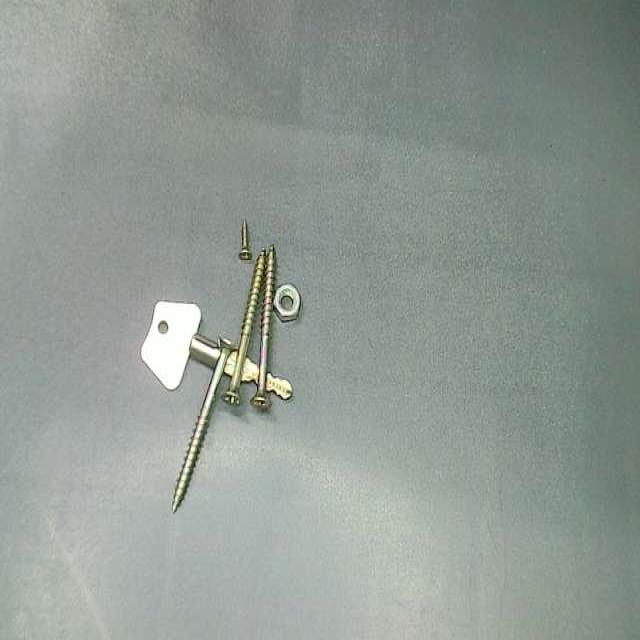Parafuso: (172, 339, 234, 513), (224, 250, 265, 405), (251, 246, 276, 409), (239, 220, 251, 261)
Porca: (273, 284, 300, 322)
